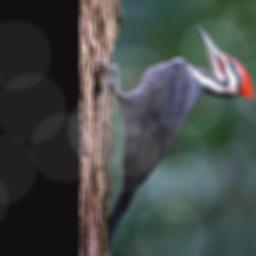Woodpecker: (92, 26, 254, 256)
